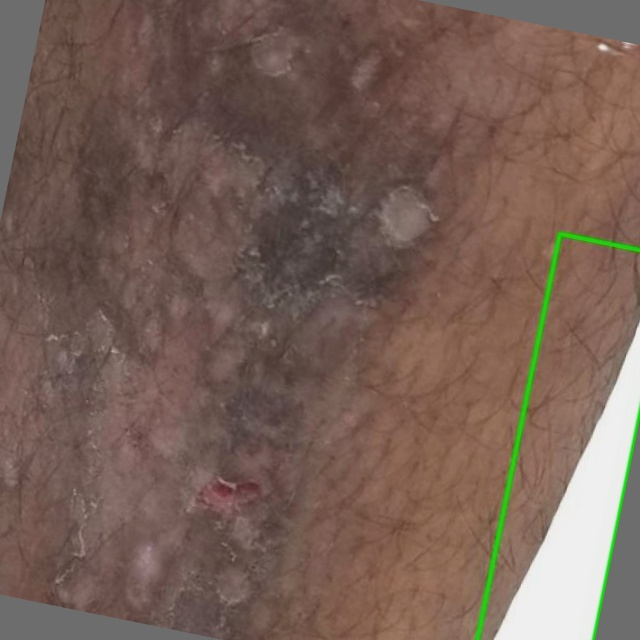Eczema: (477, 233, 639, 639)
